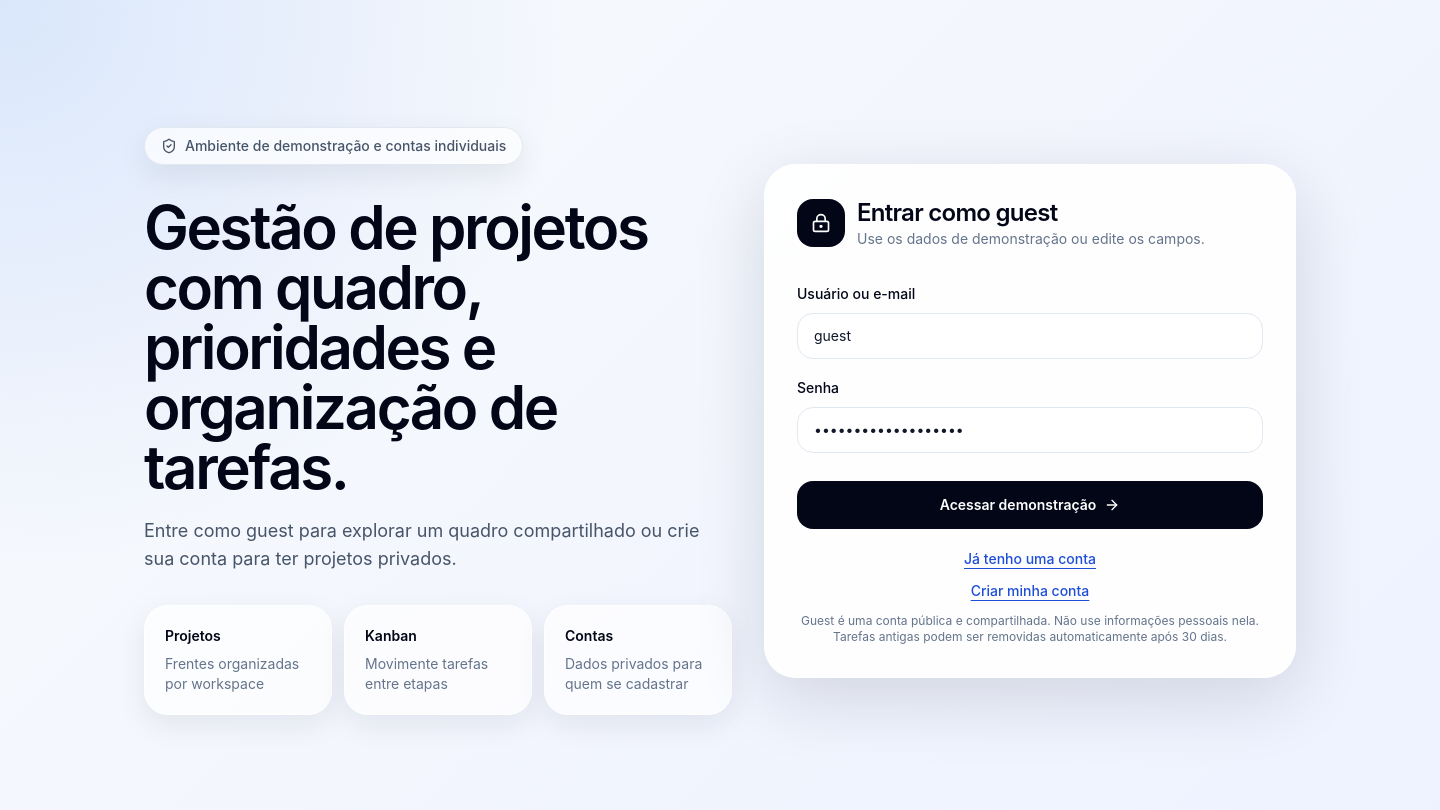
Test case: LoginScreen › só retorna ao guest quando usuário e senha originais são restaurados
This screenshot has width=1440, height=810.
In the field labelled "Usuário ou e-mail": (1030, 336) [797, 313, 1263, 359], type "x"
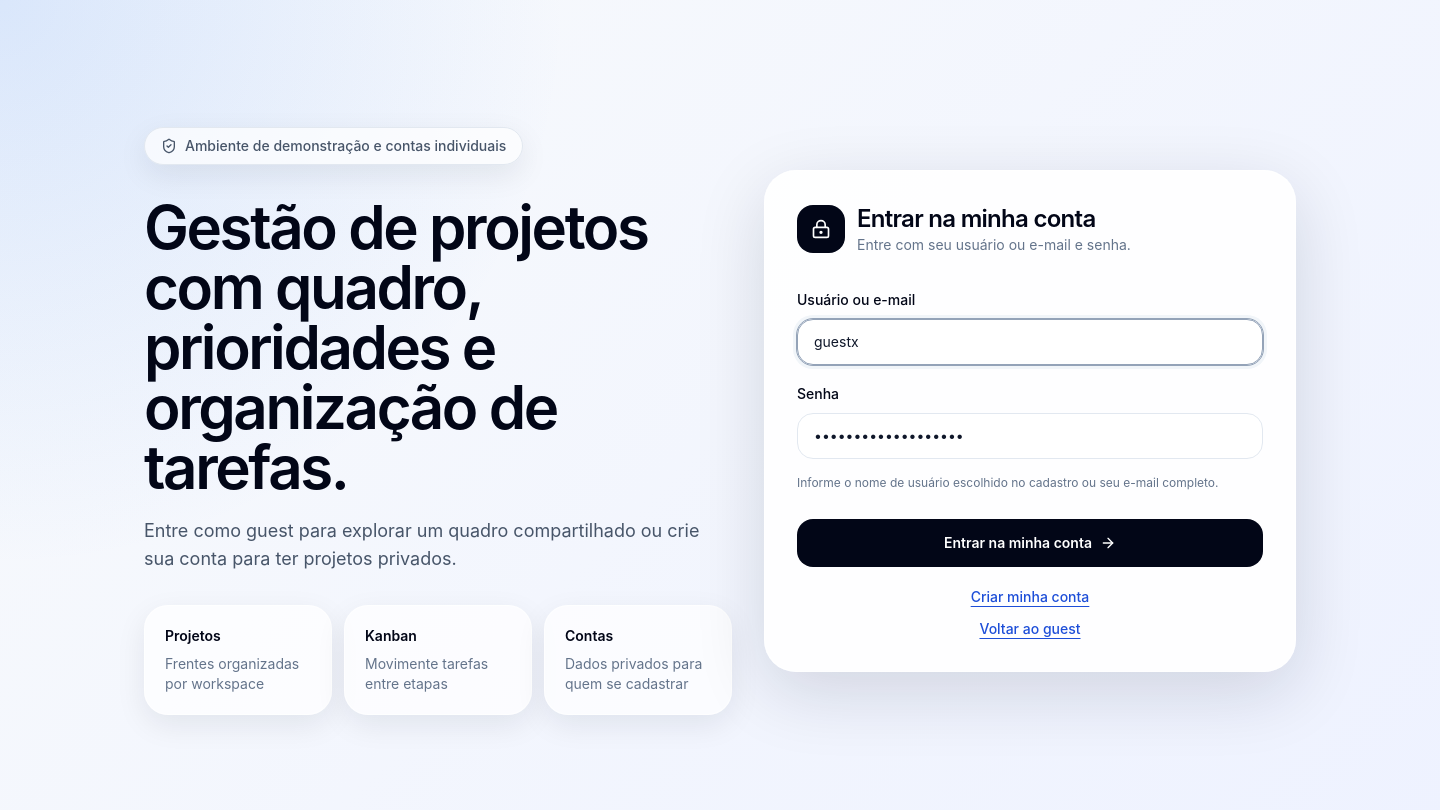
In the password field labelled "Senha": (1030, 436) [797, 413, 1263, 459], type "y"
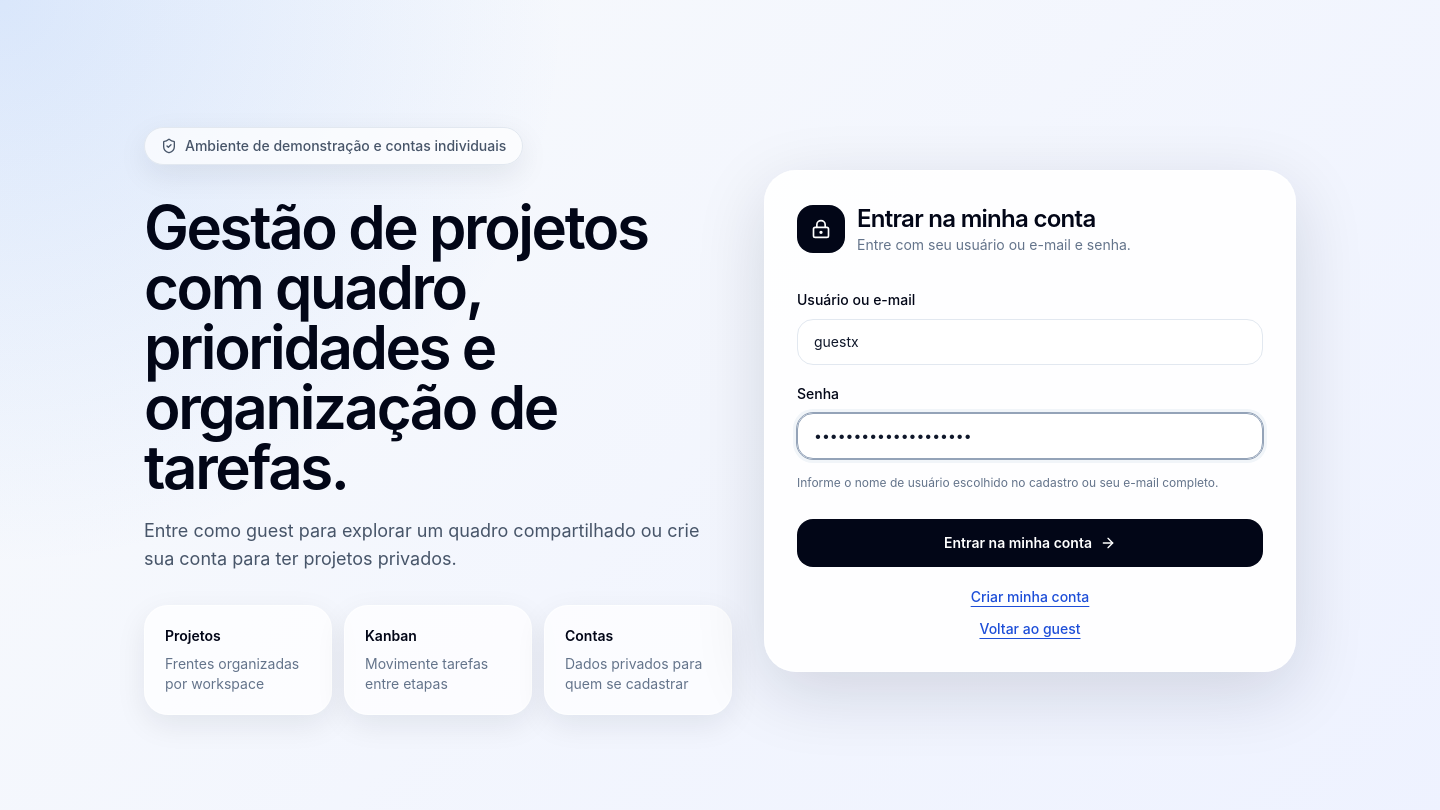
Click the field labelled "Usuário ou e-mail": (1030, 342) [797, 319, 1263, 365]
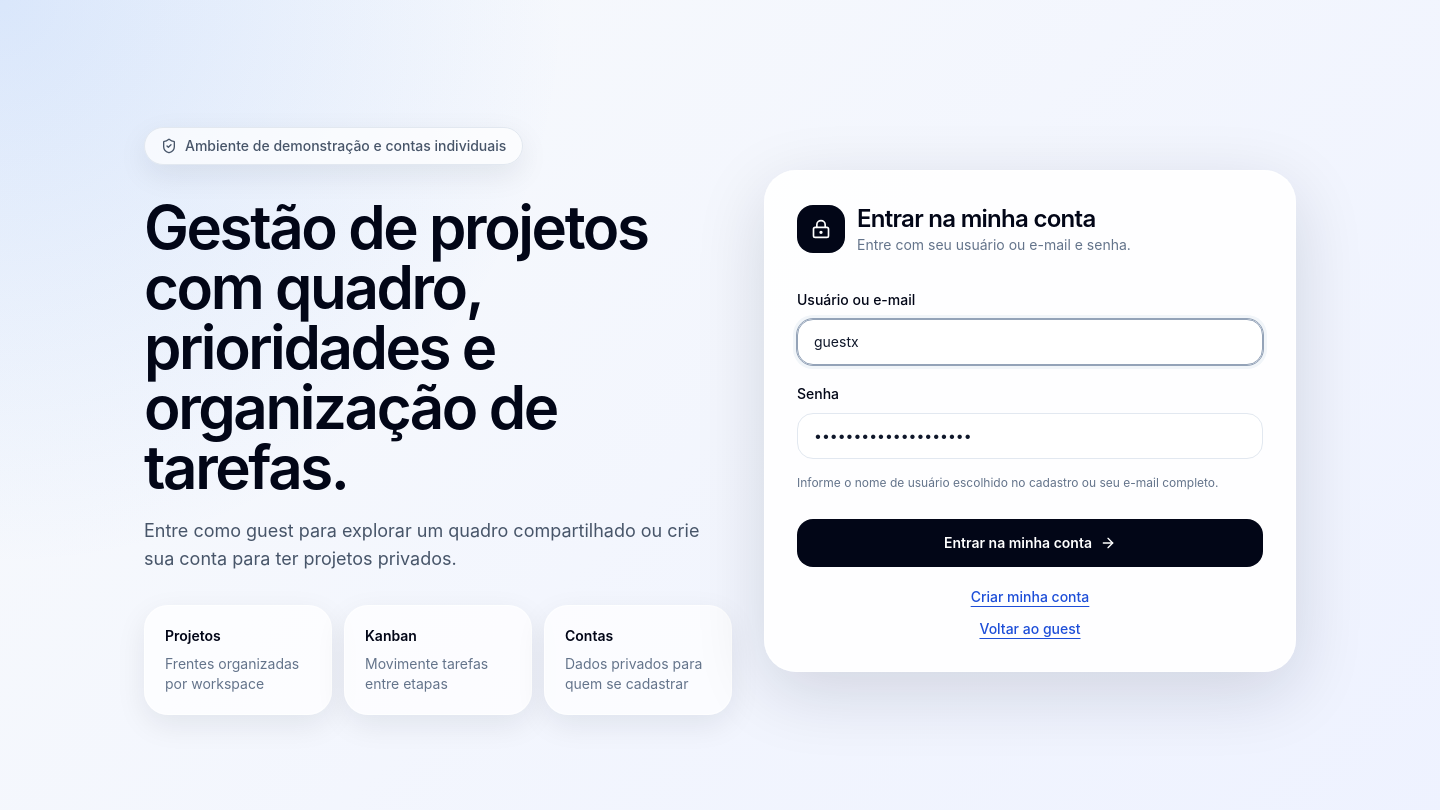
Press End Backspace
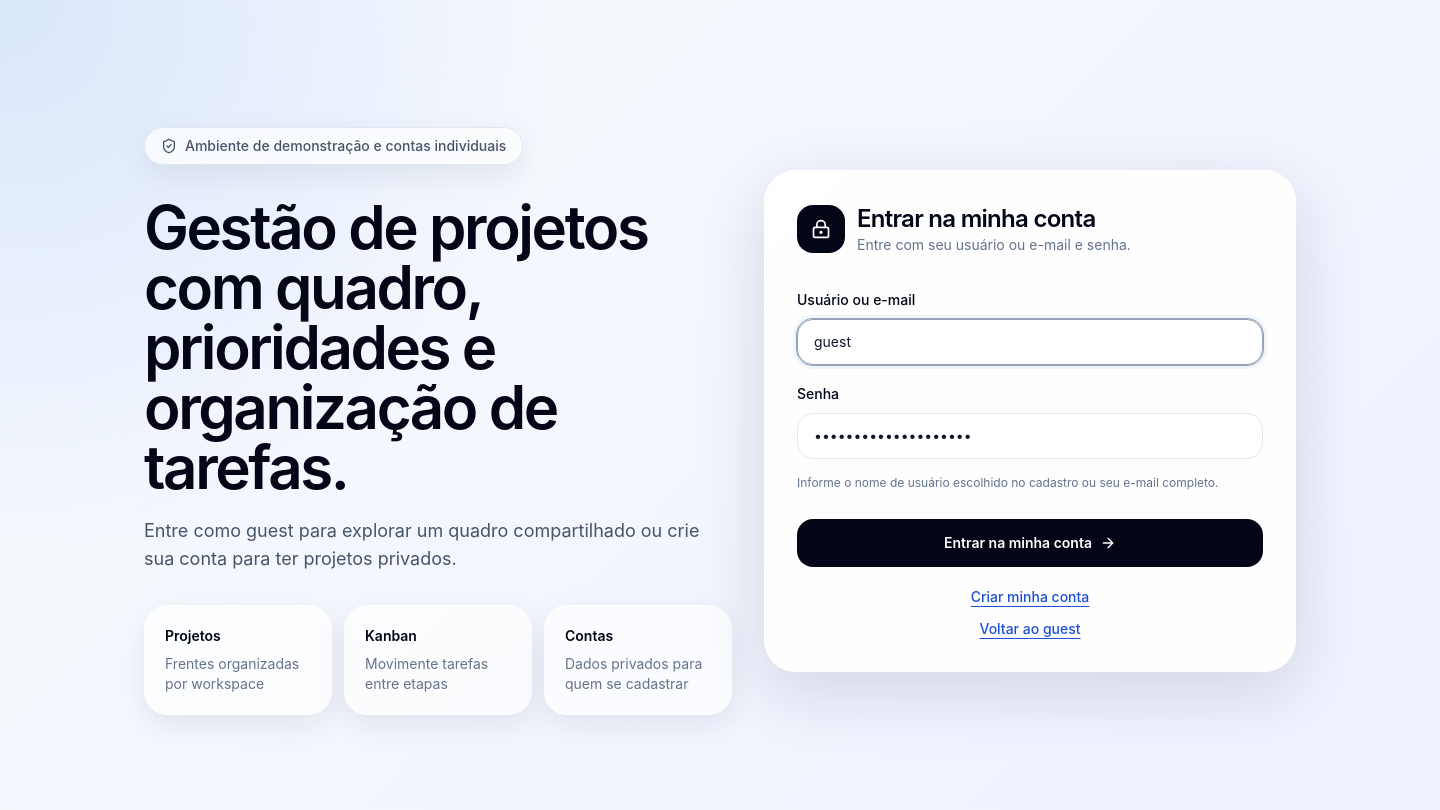
Result: the heading "Entrar na minha conta" is shown at [857, 204, 1096, 233]
Result: the field labelled "Usuário ou e-mail" holds "guest" at [797, 319, 1263, 365]
Click the password field labelled "Senha": (1030, 436) [797, 413, 1263, 459]
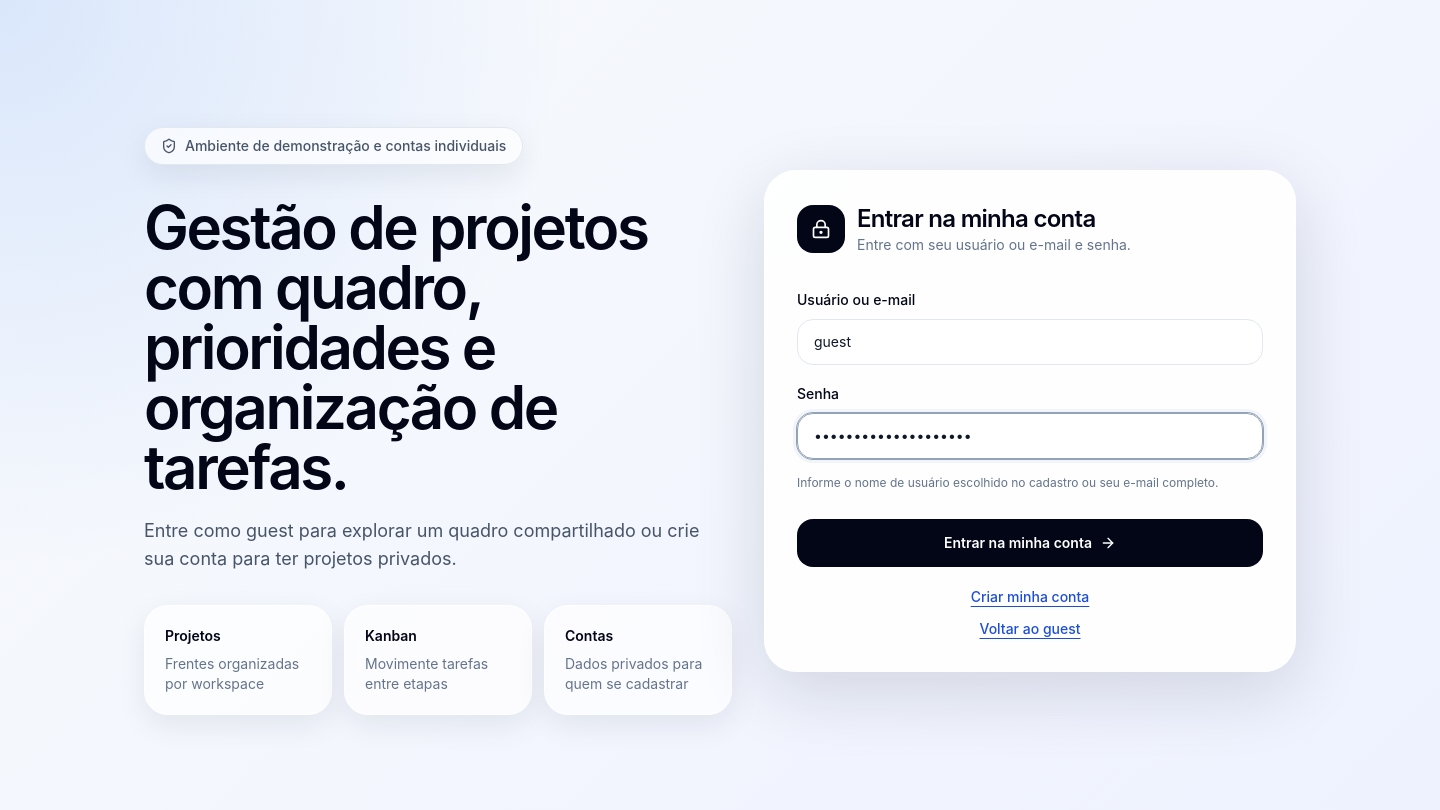
Press End Backspace
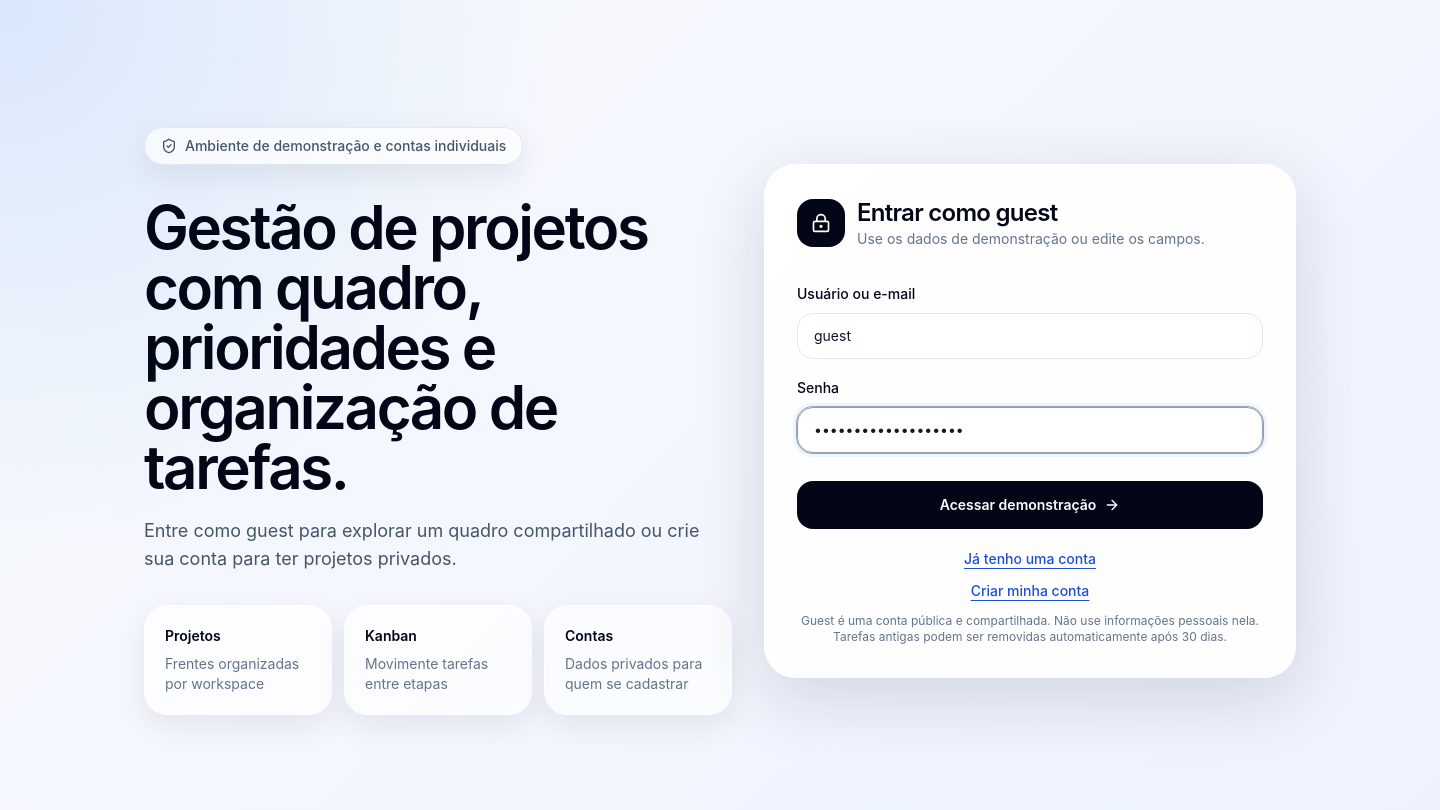
Result: the password field labelled "Senha" holds "OrquestriaDemo2026!" at [797, 407, 1263, 453]
Result: the heading "Entrar como guest" is shown at [857, 198, 1058, 227]
